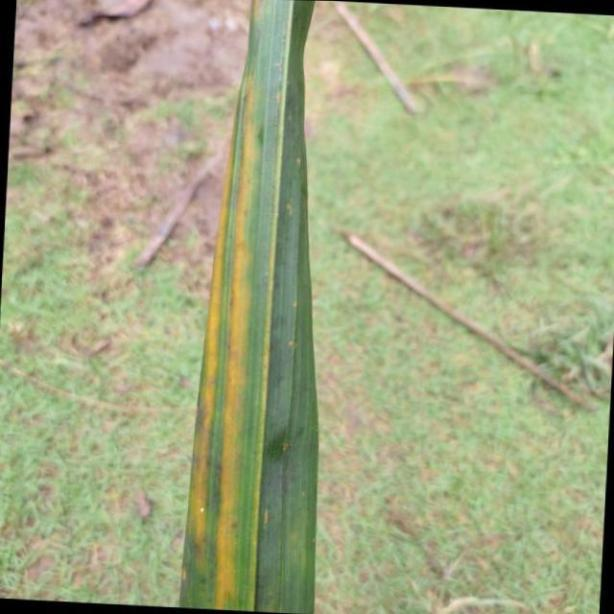Megnesium: (178, 0, 318, 614)
